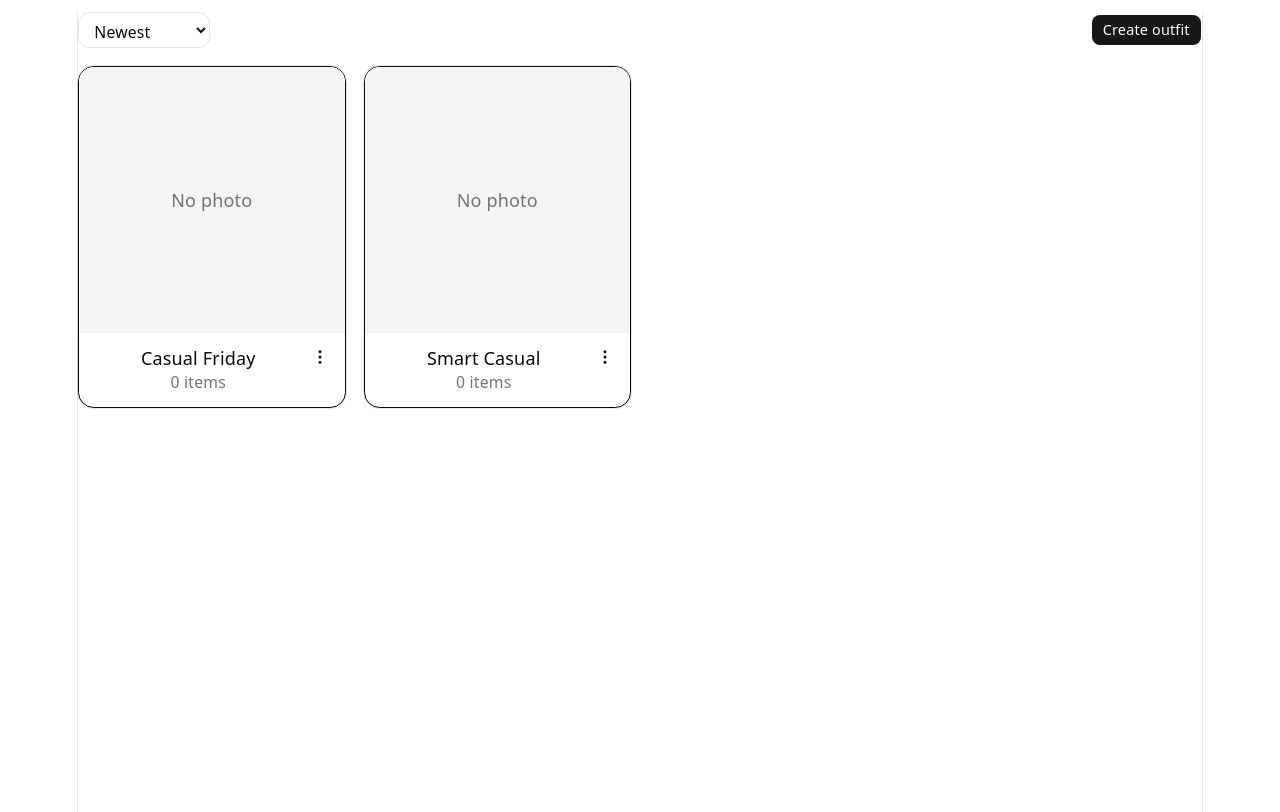
Test: OutfitsPage › OutfitsPage should remove outfit card optimistically when Delete is clicked
Expected: the text "Casual Friday" is shown, [141,346,256,370]
Click the button named "outfit options" next to "Casual Friday": (320, 357) [308,346,331,368]
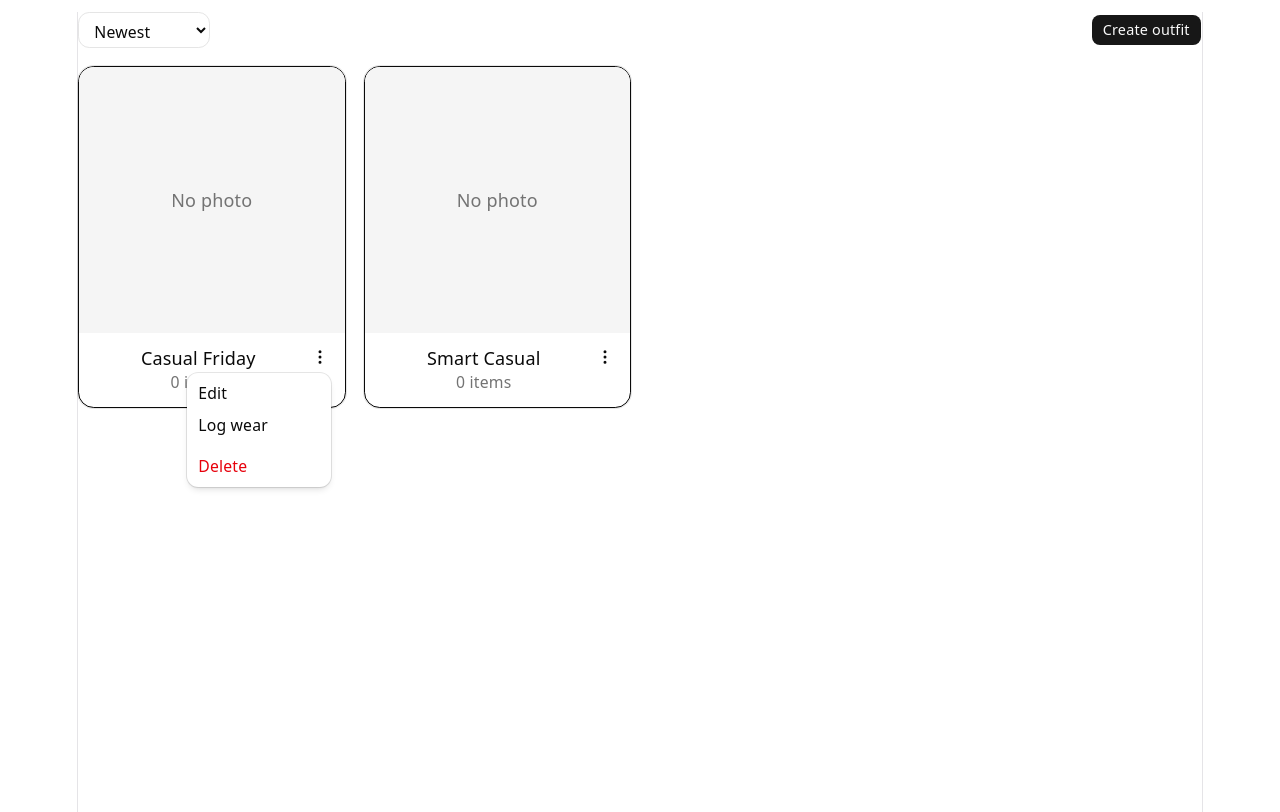
Click the menu item "Delete": (223, 466) [198,455,247,477]
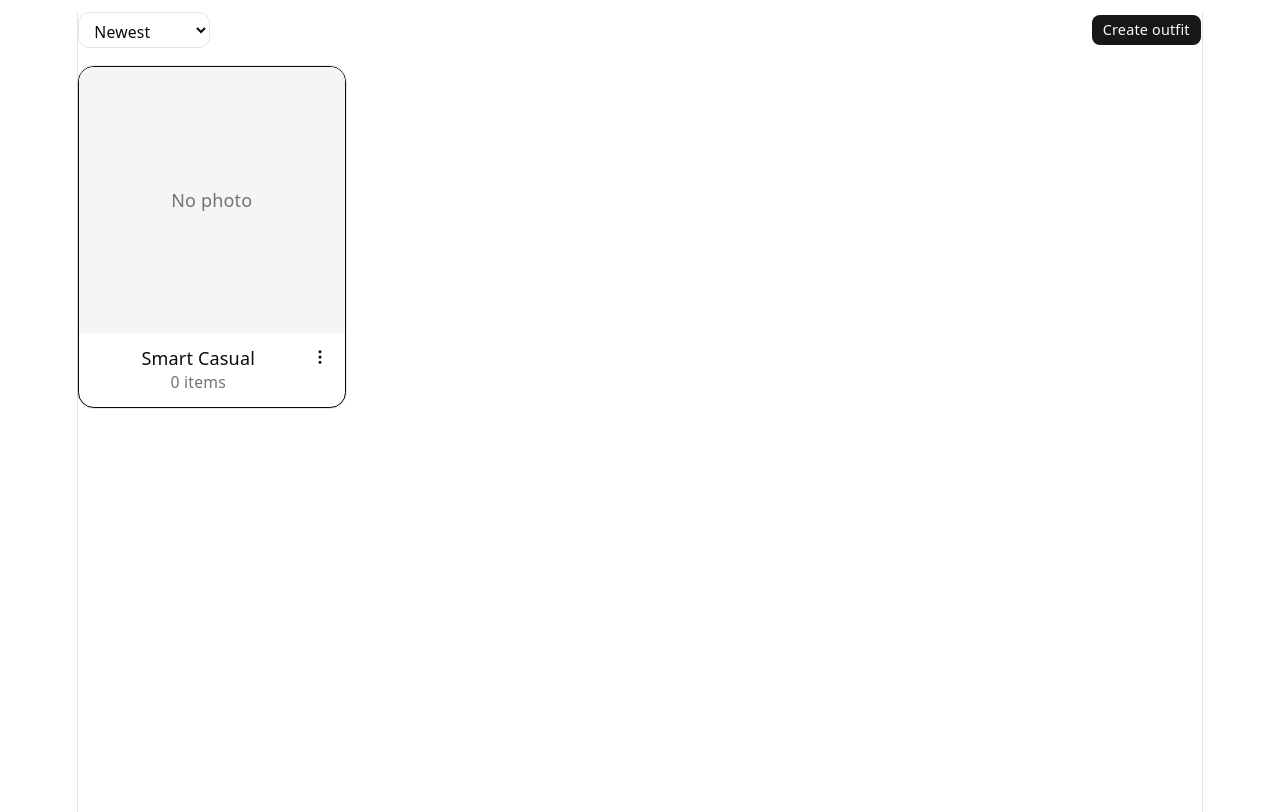
Expected: the text "Casual Friday" is gone
